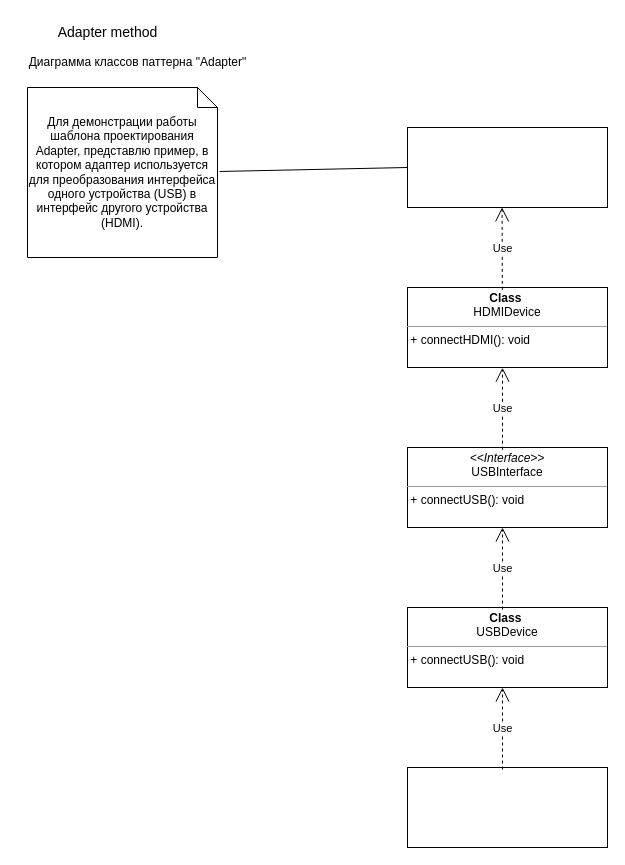
Some shapes in this 625 by 865 pixel diagram are drawn without their labels. The centre of each missing label's shape, as x and y in pixels:
"<<Interface>> HDMIInterface + connectHDMI(): void" belongs at point 507,167.
"USBToHDMIAdapter - usbDevice: USBInterface + connectHDMI(): void" belongs at point 507,807.
